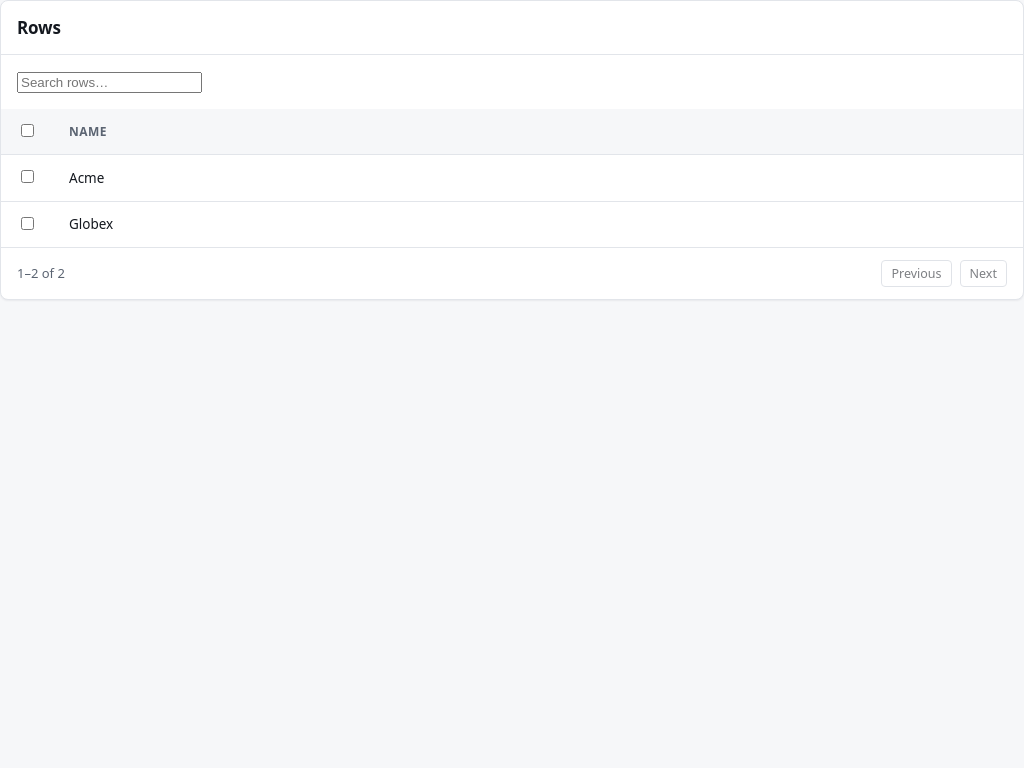
Scenario: bulk archive › clears the selection when every record was archived
Expected: the text "Acme" is shown, [53,155,1023,201]
Click the checkbox named "Select all rows on this page".
click(28, 131)  # box [21,124,34,137]
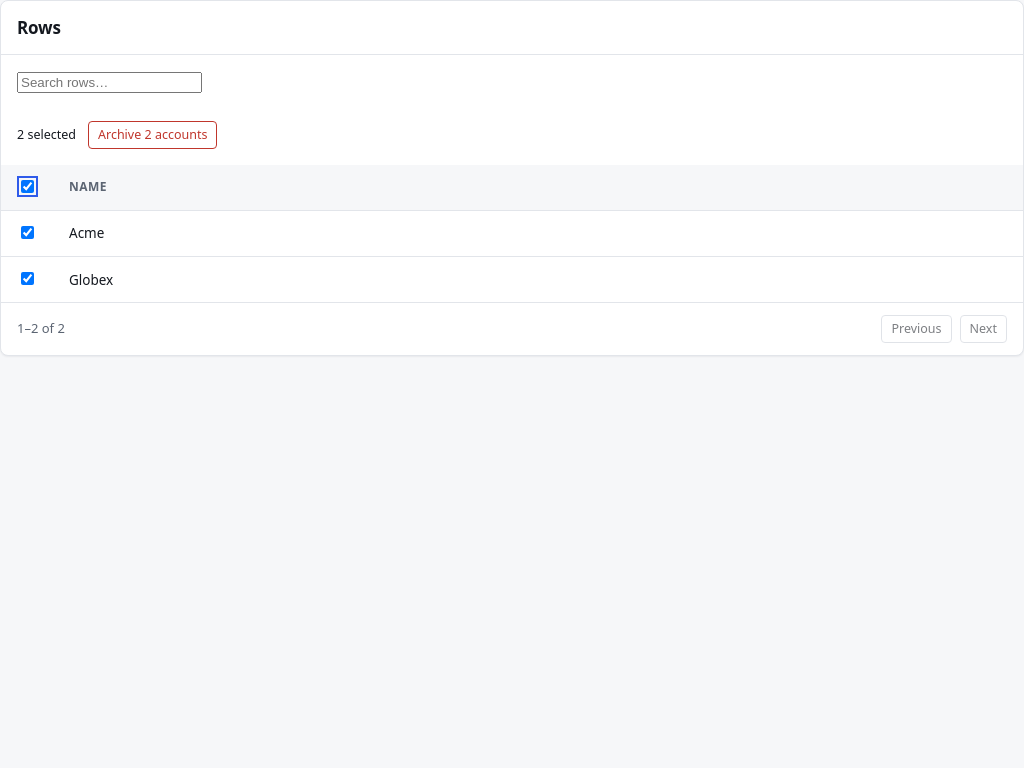
Click the button "Archive 2 accounts".
click(153, 135)  # box [88,121,218,149]
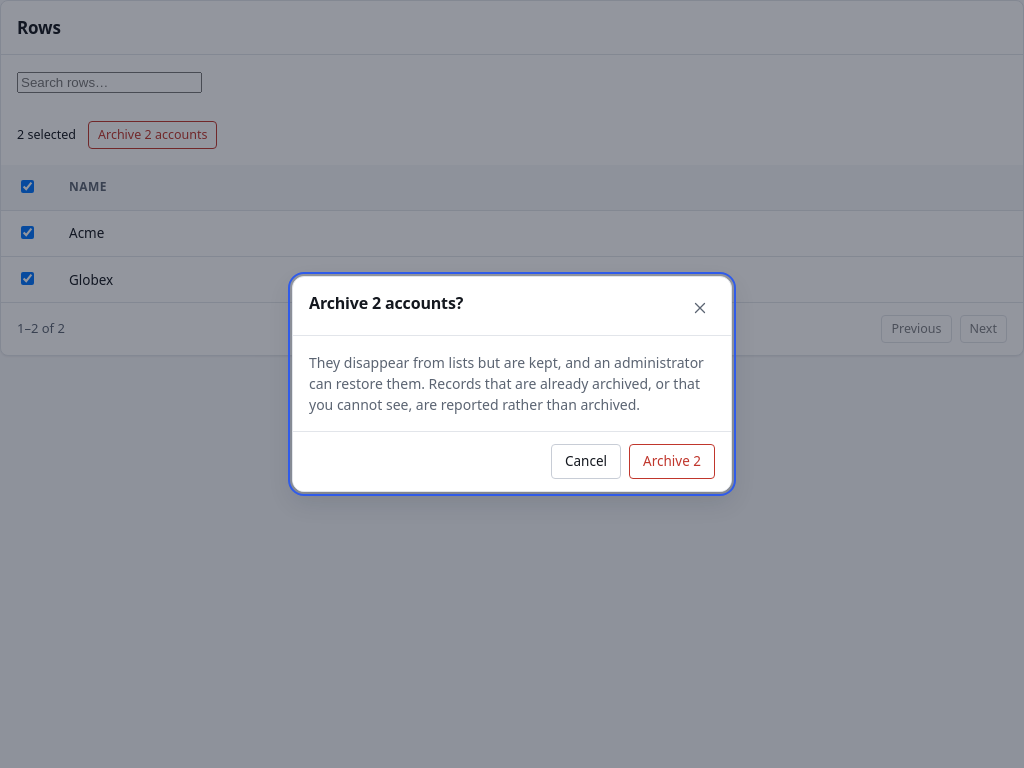
Click the button "Archive 2".
click(672, 461)  # box [629,444,715,479]
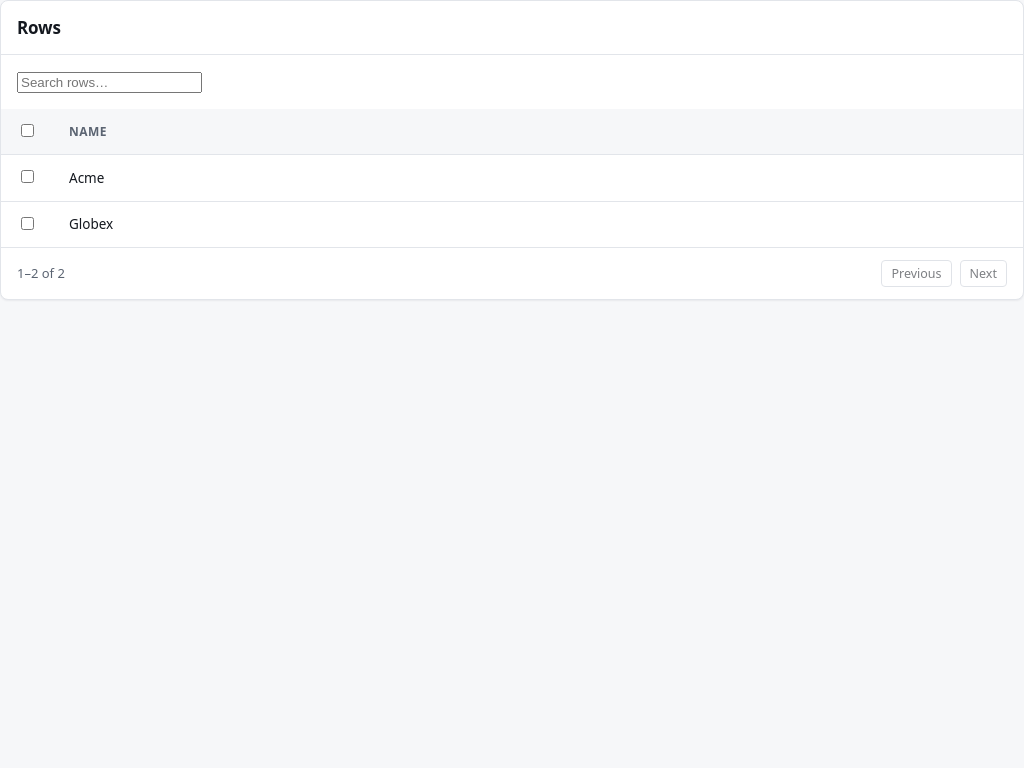
Expected: the text "2 selected" is gone
Expected: the button "Archive 2 accounts" is gone
